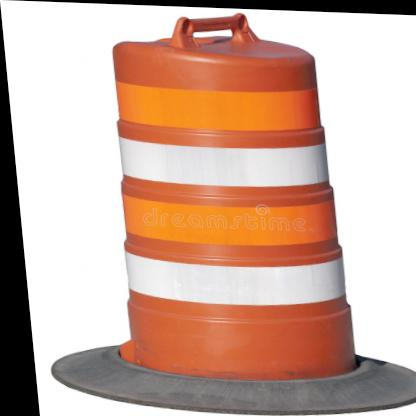obstacle: (75, 10, 362, 387)
